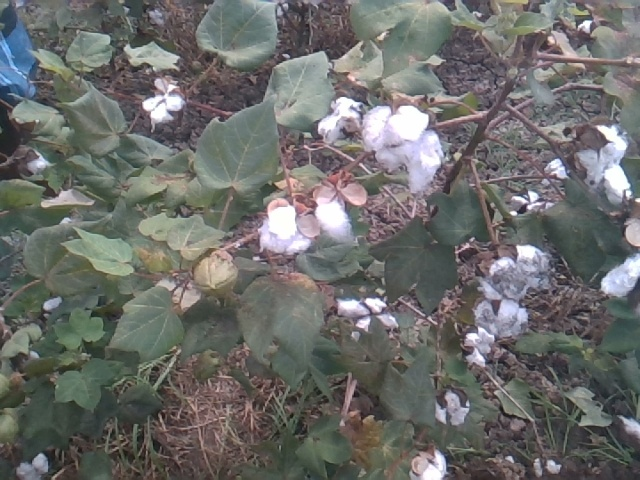cotton: (362, 104, 444, 197), (491, 241, 553, 300), (333, 294, 399, 341), (472, 295, 535, 341), (260, 206, 316, 255), (314, 97, 364, 144), (584, 125, 621, 187), (599, 251, 640, 302), (316, 199, 360, 246), (142, 89, 188, 125), (462, 327, 503, 367), (437, 388, 470, 429), (605, 169, 632, 212), (14, 451, 53, 480), (531, 459, 565, 478)
